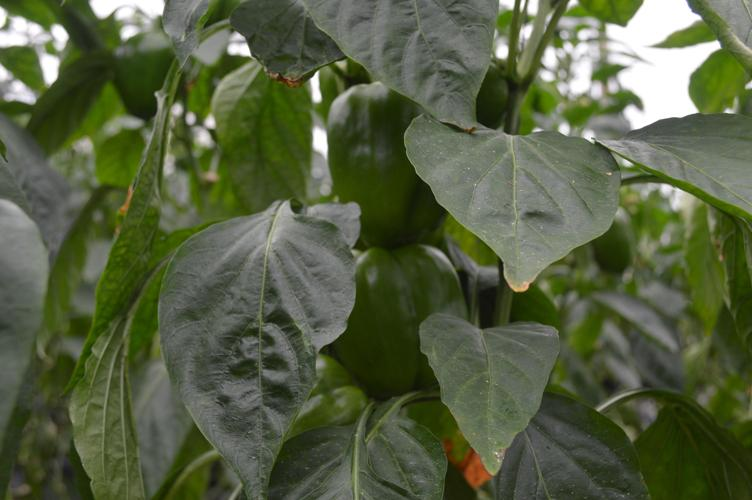BellPepper: (323, 82, 485, 244), (323, 258, 472, 407), (594, 206, 657, 269)
